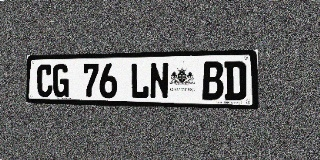6: (100, 63, 117, 98)
7: (82, 63, 99, 98)
B: (202, 61, 224, 100)
C: (37, 64, 53, 97)
D: (224, 61, 246, 101)
G: (53, 64, 69, 98)
L: (130, 63, 149, 99)
N: (150, 62, 169, 99)
